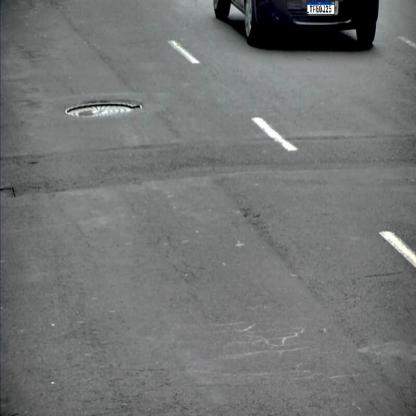PlacaM: (307, 0, 335, 14)
